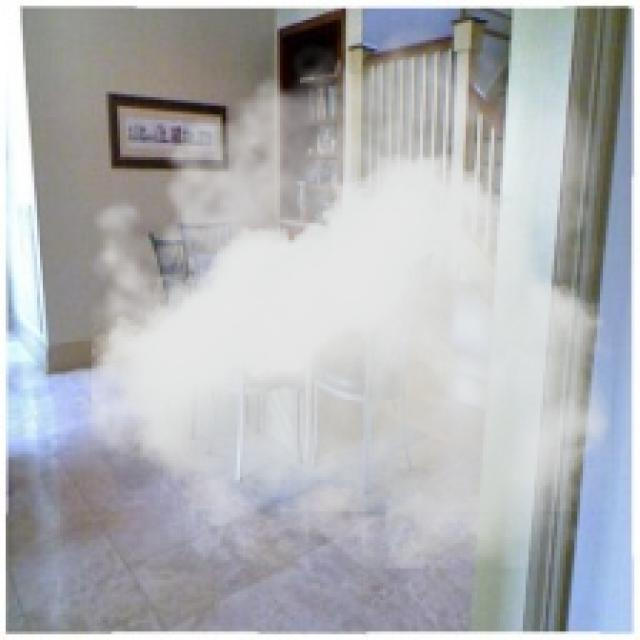Smoke: (57, 9, 612, 568)
